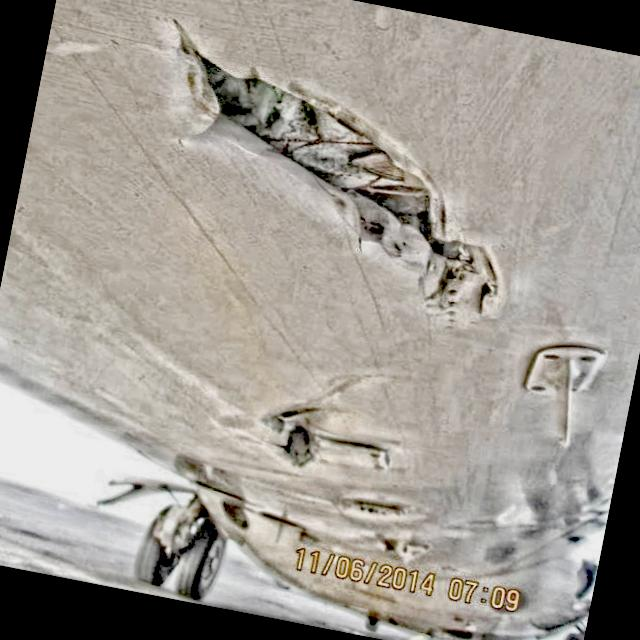crack: (124, 21, 544, 328)
